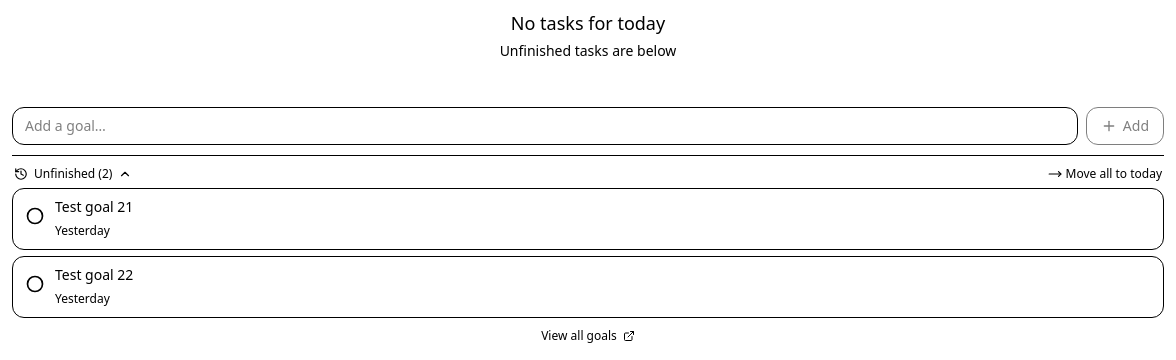
Test case: GoalsList - Unfinished group › collapses an expanded group when its header is clicked
The width and height of the screenshot is (1176, 360).
Click the button "Unfinished (2)" at (73, 174), box [14,166,132,182]
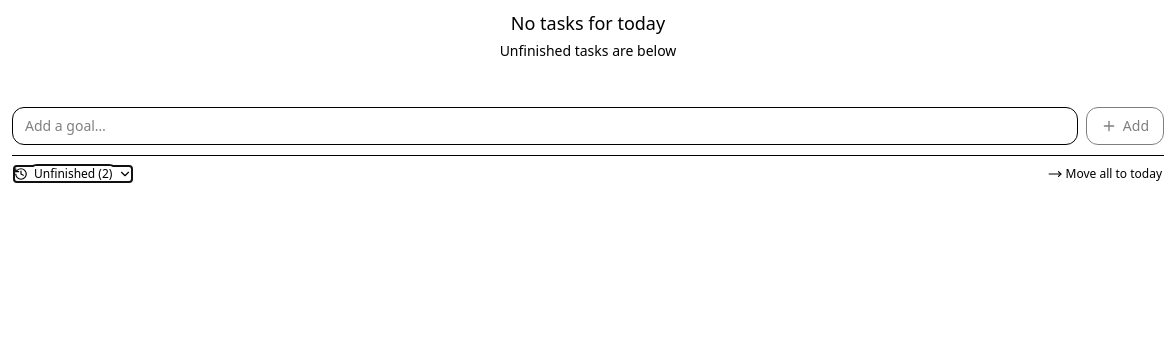
Check: the button "Unfinished (2)" is collapsed, box [14,166,132,182]
Check: the link "View all goals" is gone
